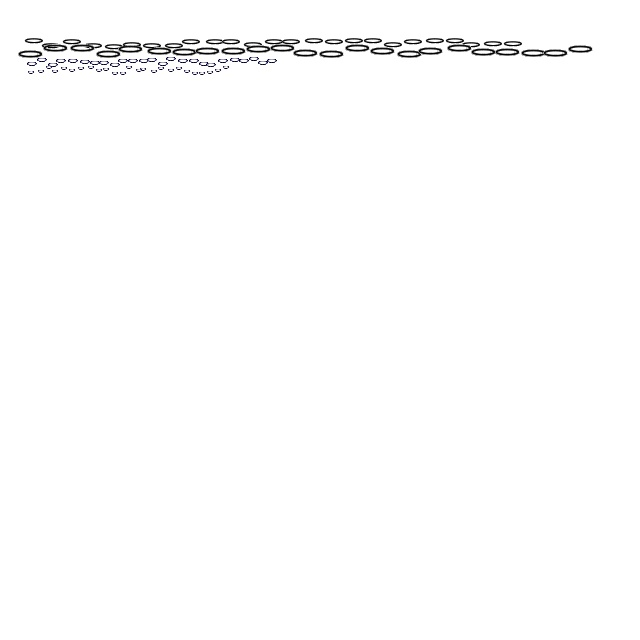chain: (116, 44, 146, 56), (244, 44, 274, 56), (368, 46, 398, 58), (416, 46, 446, 58), (566, 44, 596, 56), (146, 46, 174, 58), (194, 46, 222, 58), (220, 46, 248, 58), (292, 48, 320, 60), (520, 48, 548, 60), (542, 48, 570, 60), (16, 50, 46, 60), (68, 44, 98, 54), (94, 50, 124, 60), (170, 48, 200, 58), (268, 44, 298, 54), (42, 44, 70, 54), (318, 50, 346, 60), (344, 44, 372, 54), (396, 50, 424, 60), (446, 44, 474, 54), (470, 48, 498, 58), (494, 48, 522, 58), (23, 37, 45, 45), (40, 42, 62, 50), (61, 38, 83, 46), (82, 42, 104, 50), (103, 43, 125, 51), (121, 41, 143, 49), (141, 42, 163, 50), (163, 42, 185, 50), (180, 38, 202, 46), (204, 38, 226, 46), (220, 38, 242, 46), (242, 41, 264, 49), (263, 38, 285, 46), (280, 38, 302, 46), (303, 37, 325, 45), (323, 38, 345, 46), (343, 37, 365, 45), (362, 37, 384, 45), (382, 41, 404, 49), (402, 38, 424, 46), (424, 37, 446, 45), (444, 37, 466, 45), (460, 41, 482, 49), (482, 40, 504, 48), (502, 40, 524, 48), (47, 60, 59, 70), (55, 56, 67, 66), (67, 56, 79, 66), (89, 58, 101, 68), (98, 58, 110, 68), (109, 60, 121, 70), (117, 56, 129, 66), (127, 56, 139, 66), (138, 56, 150, 66), (165, 54, 177, 64), (177, 56, 189, 66), (188, 56, 200, 66), (205, 60, 217, 70), (217, 56, 229, 66), (238, 56, 250, 66), (248, 54, 260, 64), (257, 58, 269, 68), (266, 56, 278, 66), (26, 60, 38, 68), (36, 56, 48, 64), (79, 58, 91, 66), (146, 56, 158, 64), (157, 60, 169, 68), (198, 60, 210, 68), (229, 56, 241, 64), (27, 69, 35, 75), (37, 68, 45, 74), (45, 64, 53, 70), (51, 68, 59, 74), (60, 65, 68, 71), (68, 67, 76, 73), (77, 65, 85, 71), (87, 64, 95, 70), (95, 67, 103, 73), (102, 66, 110, 72), (111, 70, 119, 76), (119, 70, 127, 76), (125, 64, 133, 70), (135, 67, 143, 73), (139, 66, 147, 72), (150, 68, 158, 74), (157, 65, 165, 71), (167, 67, 175, 73), (175, 65, 183, 71), (183, 68, 191, 74), (191, 70, 199, 76), (198, 70, 206, 76), (206, 69, 214, 75), (214, 67, 222, 73), (222, 64, 230, 70)
